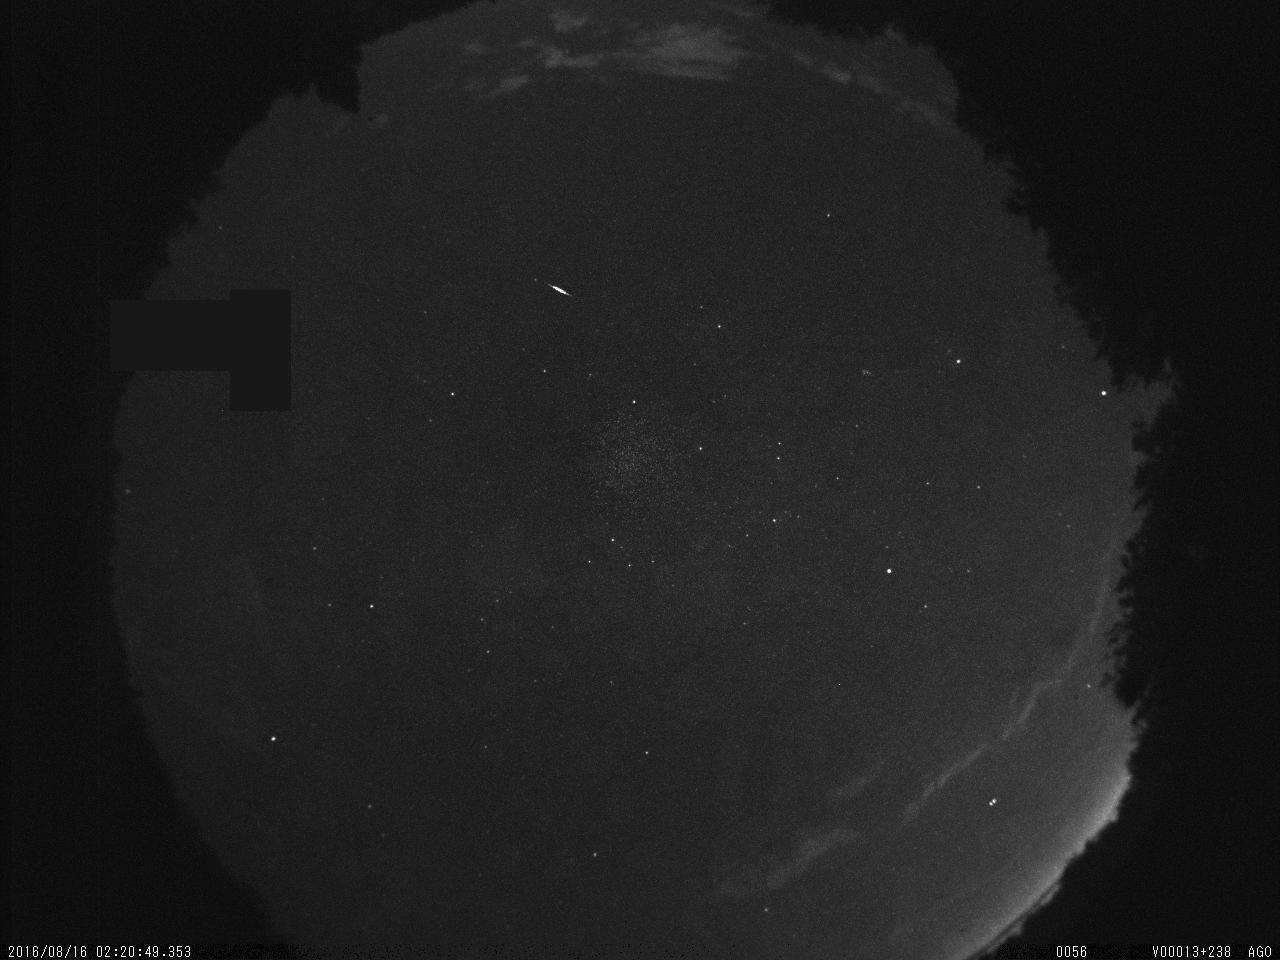Meteor: (538, 275, 580, 308)
